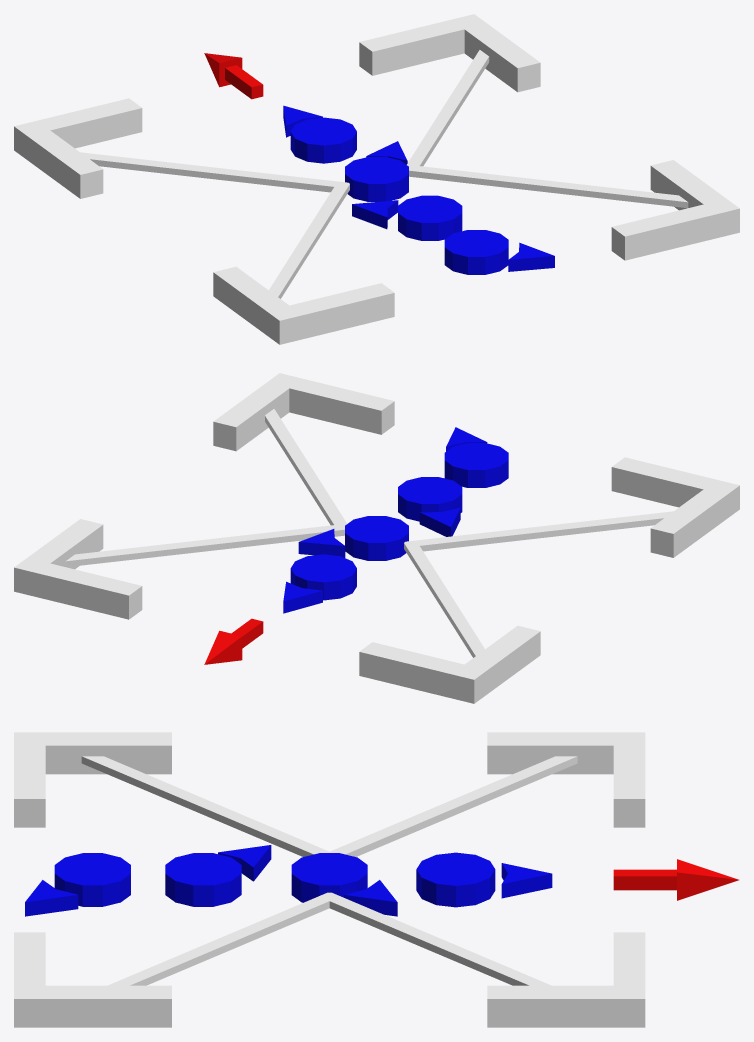
3 views of the same model, one above another, from view 1: azimuth 30°, elevation 25°; view 2: azimuth 150°, elevation 25°; view 3: azimuth 270°, elevation 25° (orthographic). The views are drawn at different scales.
Visible parts, largest first — view 1: file_i_frame_Cube.001, Cube.001_Cube.004, Plane.001_Plane.014, Plane.000_Plane.013, Plane.002_Plane.015, Plane.004_Plane.016, arrow_Cube.001_arrow_Cube.002; view 2: file_i_frame_Cube.001, Cube.001_Cube.004, Plane.004_Plane.016, Plane.002_Plane.015, Plane.000_Plane.013, Plane.001_Plane.014, arrow_Cube.001_arrow_Cube.002; view 3: file_i_frame_Cube.001, Cube.001_Cube.004, Plane.002_Plane.015, Plane.001_Plane.014, Plane.000_Plane.013, Plane.004_Plane.016, arrow_Cube.001_arrow_Cube.002.
Boxes of the visible parts, left/top/right/bottom form: file_i_frame_Cube.001: left=14, top=14, right=739, bottom=344; Cube.001_Cube.004: left=80, top=50, right=688, bottom=298; Plane.001_Plane.014: left=444, top=230, right=554, bottom=274; Plane.000_Plane.013: left=352, top=195, right=462, bottom=240; Plane.002_Plane.015: left=283, top=105, right=356, bottom=163; Plane.004_Plane.016: left=345, top=141, right=408, bottom=201; arrow_Cube.001_arrow_Cube.002: left=204, top=53, right=263, bottom=99; file_i_frame_Cube.001: left=14, top=373, right=739, bottom=703; Cube.001_Cube.004: left=65, top=409, right=673, bottom=657; Plane.004_Plane.016: left=298, top=516, right=408, bottom=560; Plane.002_Plane.015: left=283, top=554, right=356, bottom=613; Plane.000_Plane.013: left=398, top=477, right=462, bottom=536; Plane.001_Plane.014: left=444, top=427, right=508, bottom=487; arrow_Cube.001_arrow_Cube.002: left=204, top=618, right=263, bottom=664; file_i_frame_Cube.001: left=14, top=732, right=645, bottom=1027; Cube.001_Cube.004: left=81, top=756, right=577, bottom=985; Plane.002_Plane.015: left=416, top=852, right=552, bottom=907; Plane.001_Plane.014: left=25, top=853, right=130, bottom=916; Plane.000_Plane.013: left=165, top=845, right=271, bottom=906; Plane.004_Plane.016: left=291, top=853, right=397, bottom=916; arrow_Cube.001_arrow_Cube.002: left=613, top=859, right=738, bottom=900.
Bounding box in the file's own units: 4 × 0.2 × 4.6.
